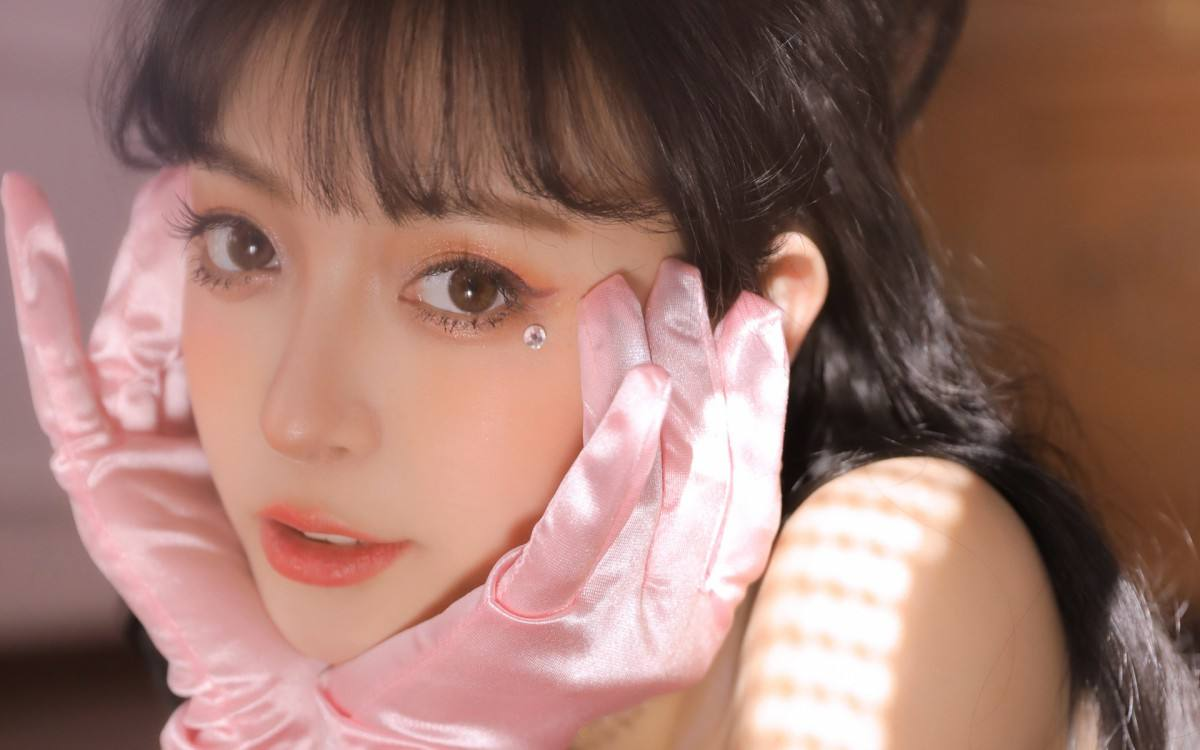person: (59, 29, 1108, 743)
